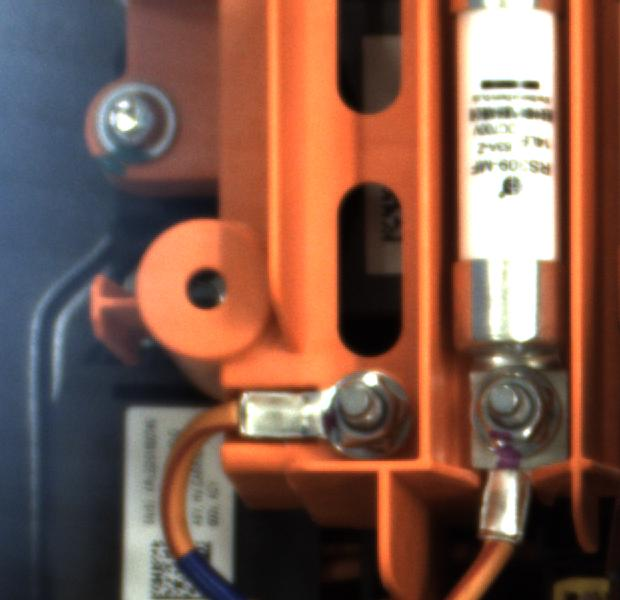screw_m: (86, 74, 182, 166)
screw_s: (466, 364, 566, 464), (318, 362, 415, 459)
